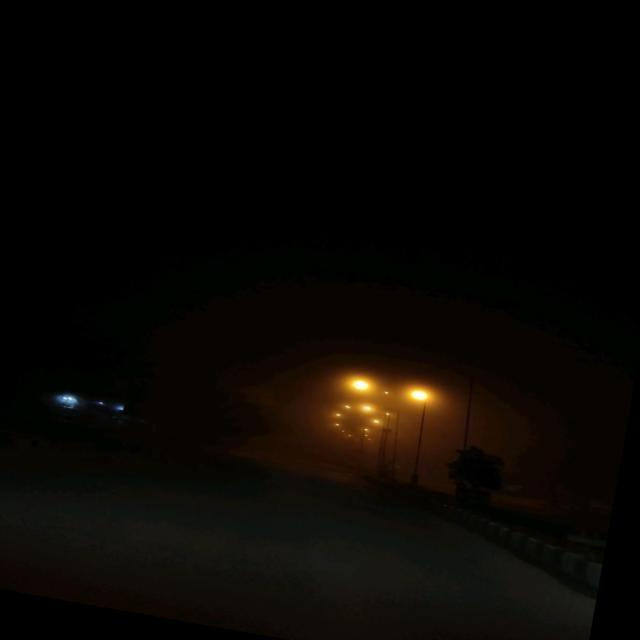on: (310, 333, 472, 438)
